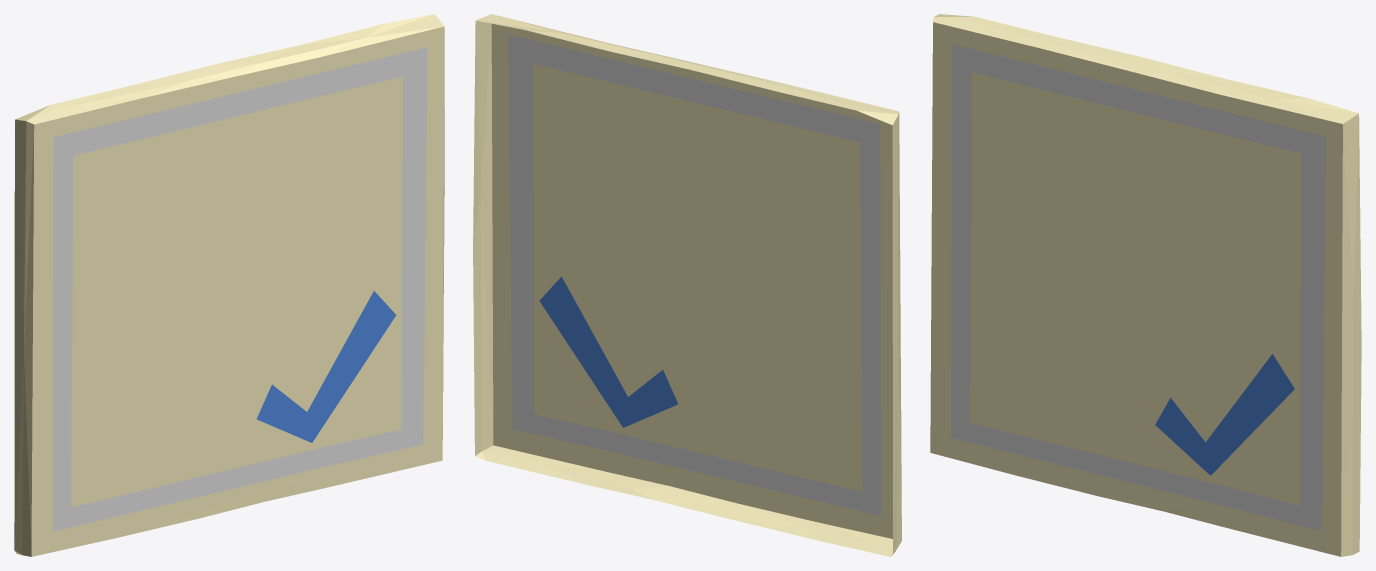
The model's file is ui_button_filterToggle.glb.
3 renders of one model, left to right at view 1: azimuth 30°, elevation 25°; view 2: azimuth 150°, elevation 25°; view 3: azimuth 330°, elevation 25°, orthographic.
Visible parts, largest first — view 1: Cube; view 2: Cube; view 3: Cube.
Boxes of the visible parts, left/top/right/bottom form: Cube: left=14, top=14, right=444, bottom=556; Cube: left=473, top=14, right=901, bottom=556; Cube: left=930, top=14, right=1361, bottom=556.
Bounding box in the file's own units: 2.01 × 2.02 × 0.1075.
